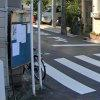crosswalks: (41, 51, 100, 100)
